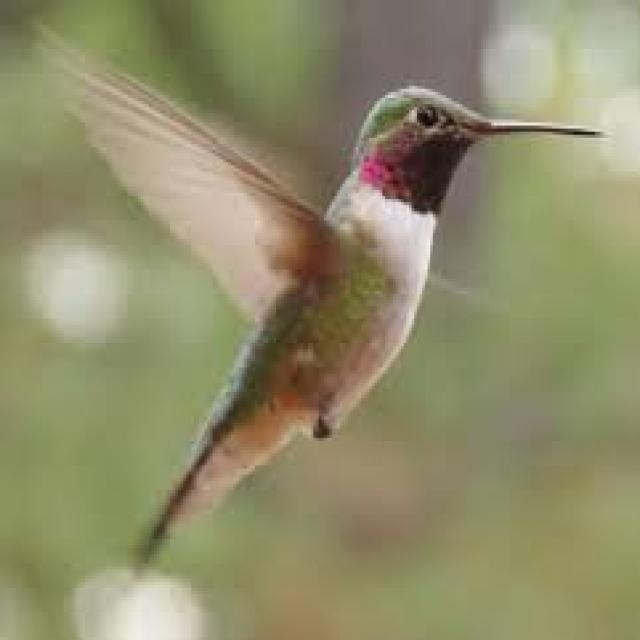Humming Bird: (46, 39, 595, 554)
